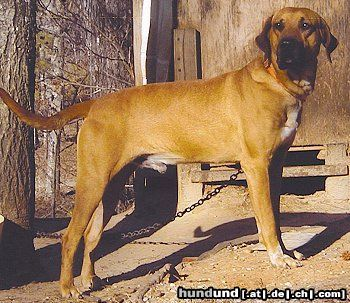tosa_inu: (0, 5, 340, 300)
